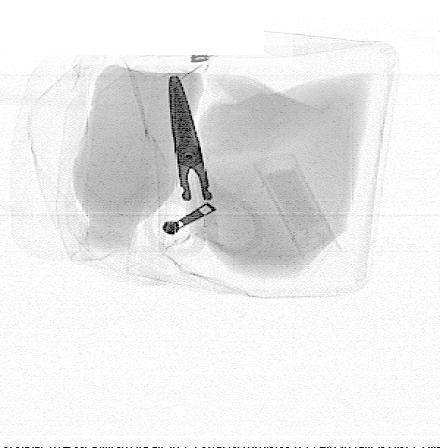Scissors: (141, 73, 265, 261)
